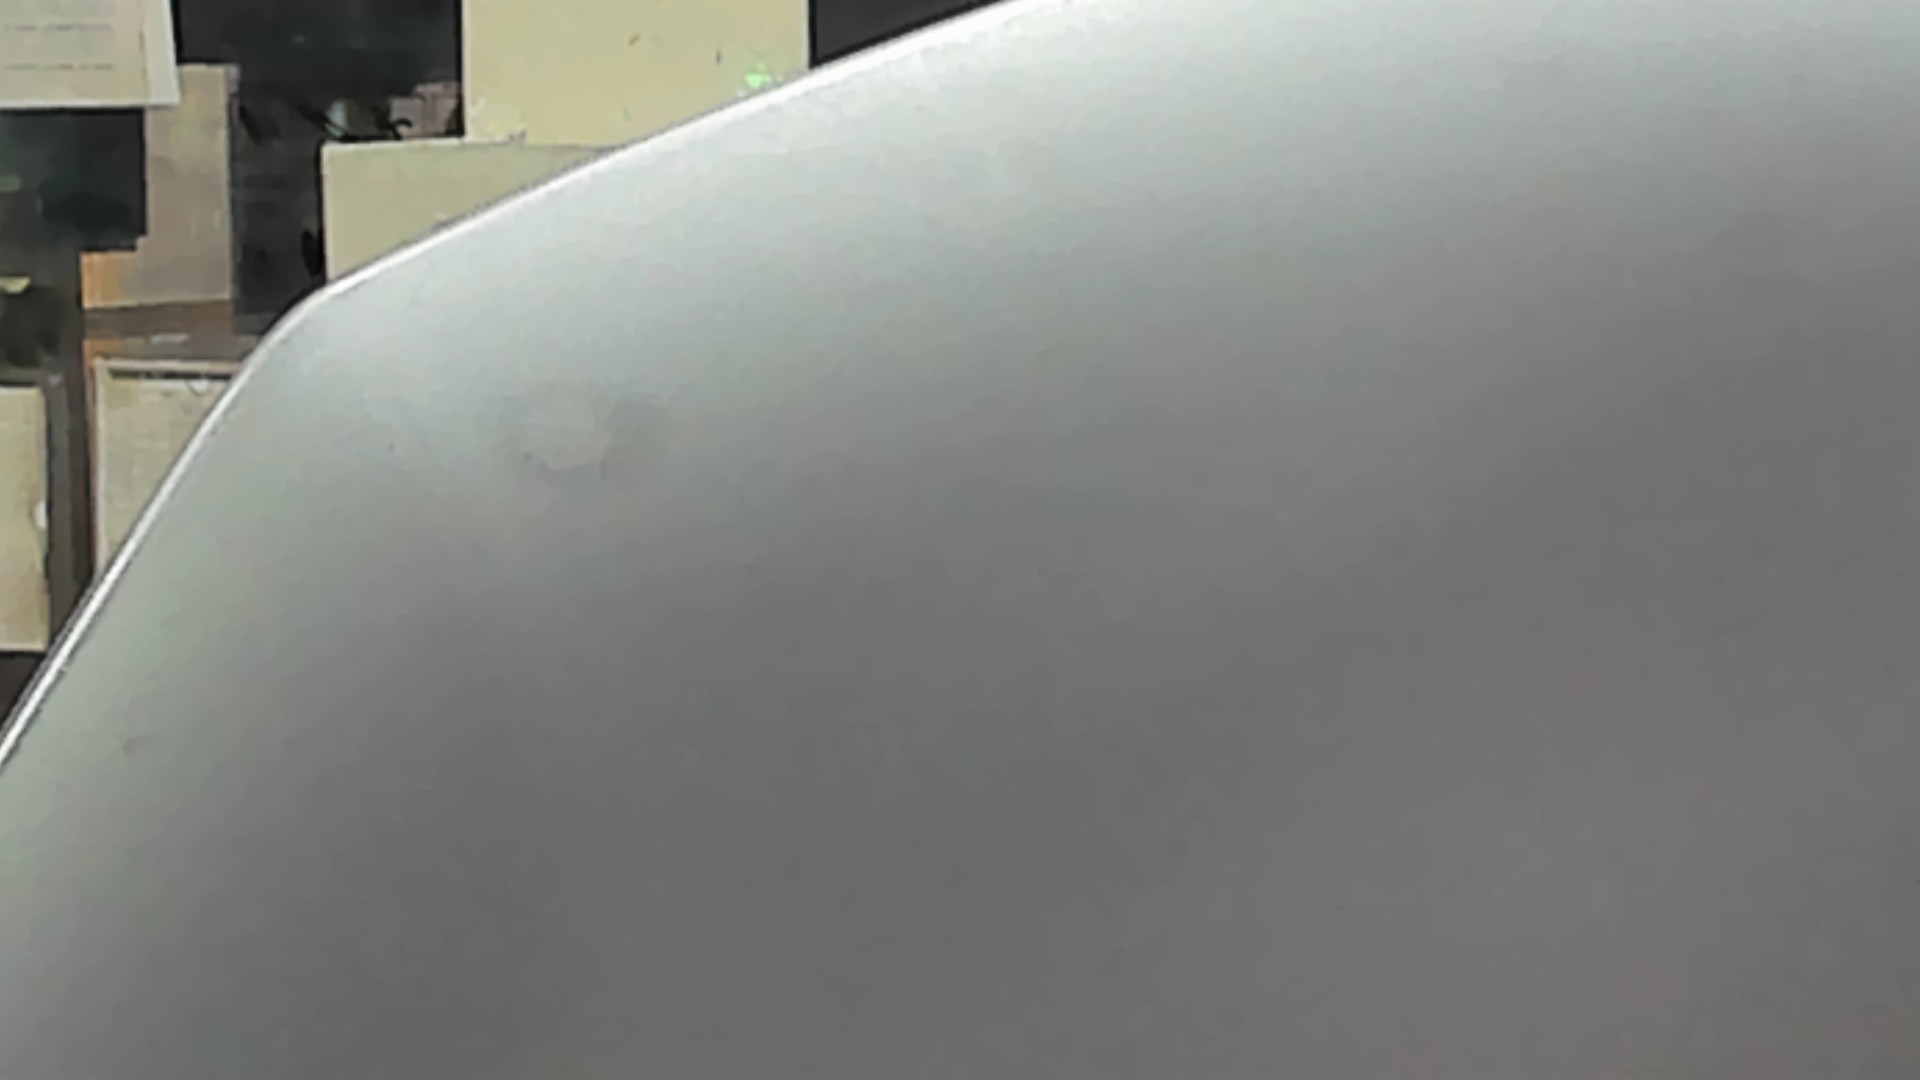capo: (646, 175, 1920, 1080)
